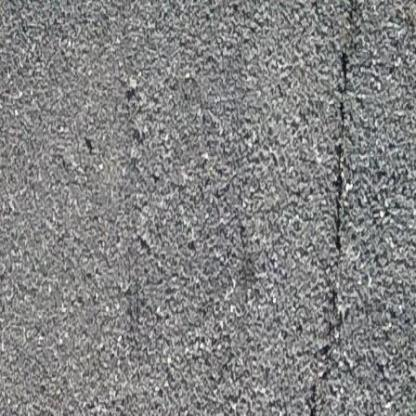Cracks: (296, 0, 378, 416)
